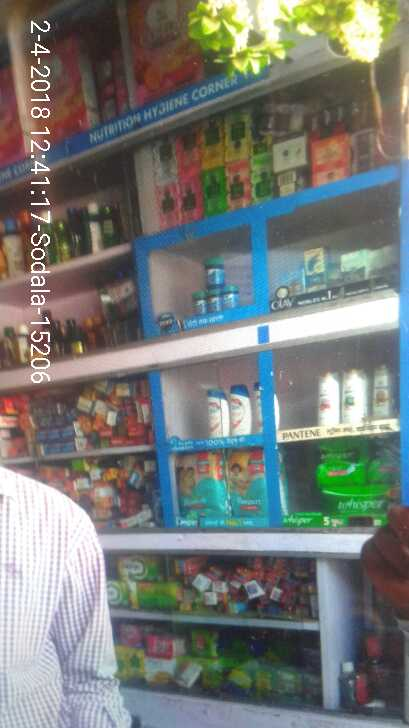vicks: (193, 253, 239, 314)
